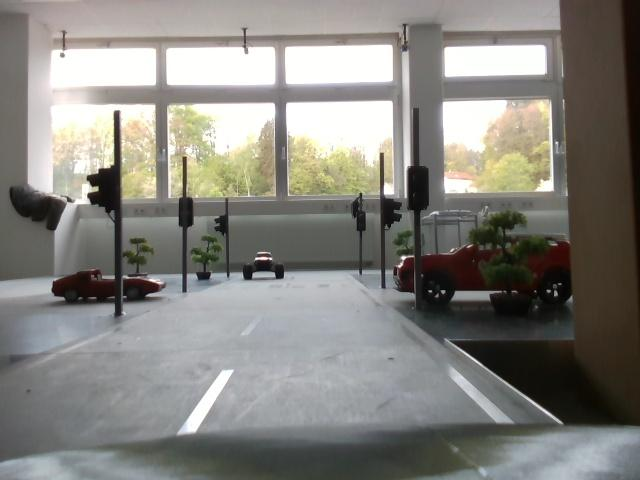car: (396, 240, 579, 306), (52, 264, 169, 306), (240, 240, 288, 288)
potted plant: (475, 202, 546, 332), (194, 232, 225, 285), (127, 232, 160, 273)
traffic light: (88, 162, 131, 218), (409, 164, 435, 212), (373, 196, 406, 232), (178, 190, 199, 235)
